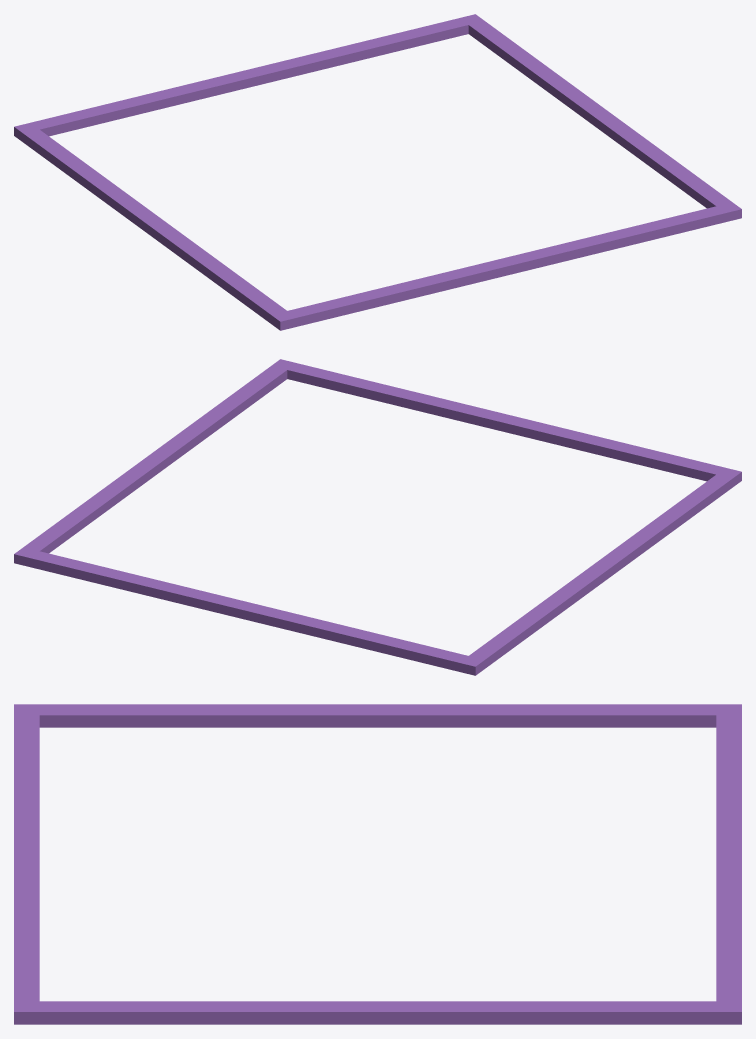
File: frame-skin-6.glb
The picture shows the model from 3 angles, top to bottom: view 1: azimuth 30°, elevation 25°; view 2: azimuth 150°, elevation 25°; view 3: azimuth 270°, elevation 25°; orthographic projection. The views are drawn at different scales.
Parts seen in each view (by area): view 1: frame-skin-6; view 2: frame-skin-6; view 3: frame-skin-6.
Boxes of the visible parts, x1,y1,x2,y2 form: frame-skin-6: [14, 14, 741, 330]; frame-skin-6: [14, 359, 741, 675]; frame-skin-6: [14, 704, 741, 1024].
Bounding box in the file's own units: 17 × 0.32 × 17.
Materials: 1 (1 with a texture image).
